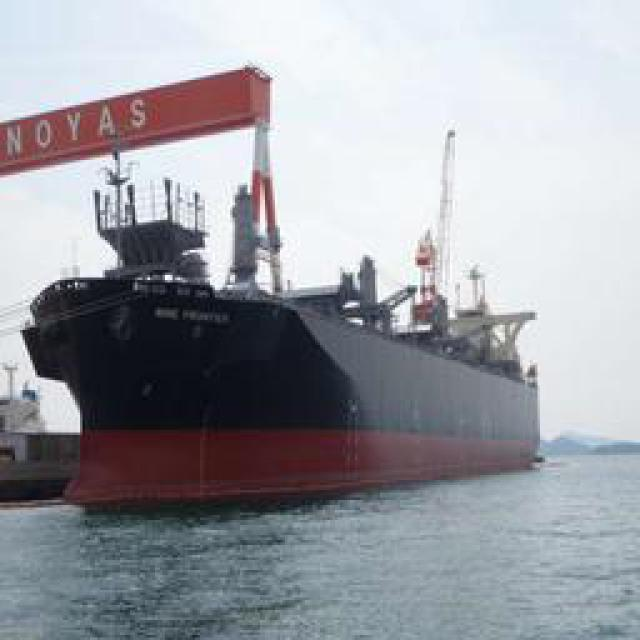Ship: (27, 232, 540, 512)
